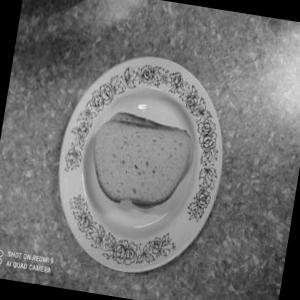bread: (73, 92, 223, 240)
